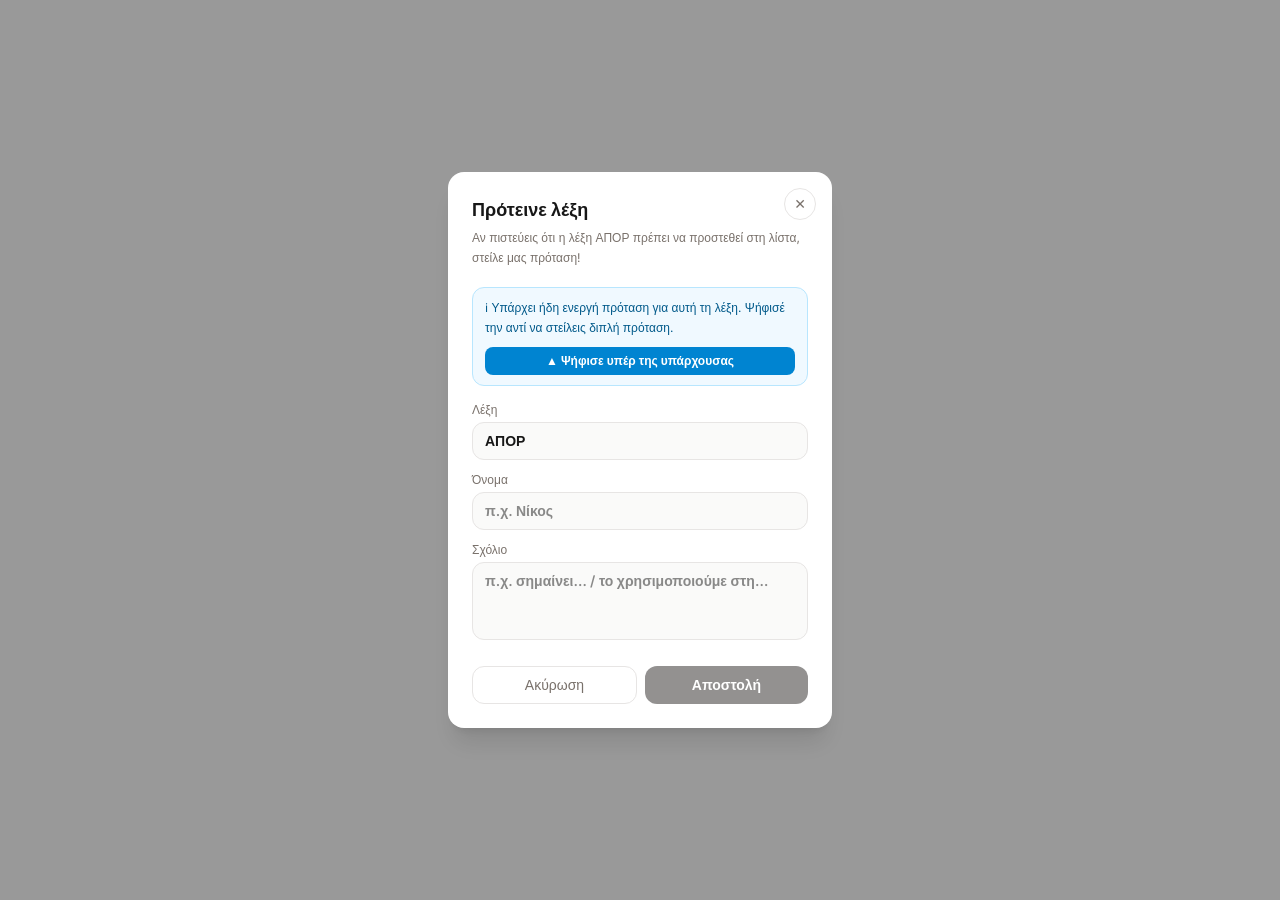
Test: NominationModal — re-proposal warning › upvotes the existing proposal instead of posting a duplicate
This screenshot has width=1280, height=900.
Step 1. Click the button with test id "nomination-pending-upvote" → (640, 361), box [485,347,795,375]
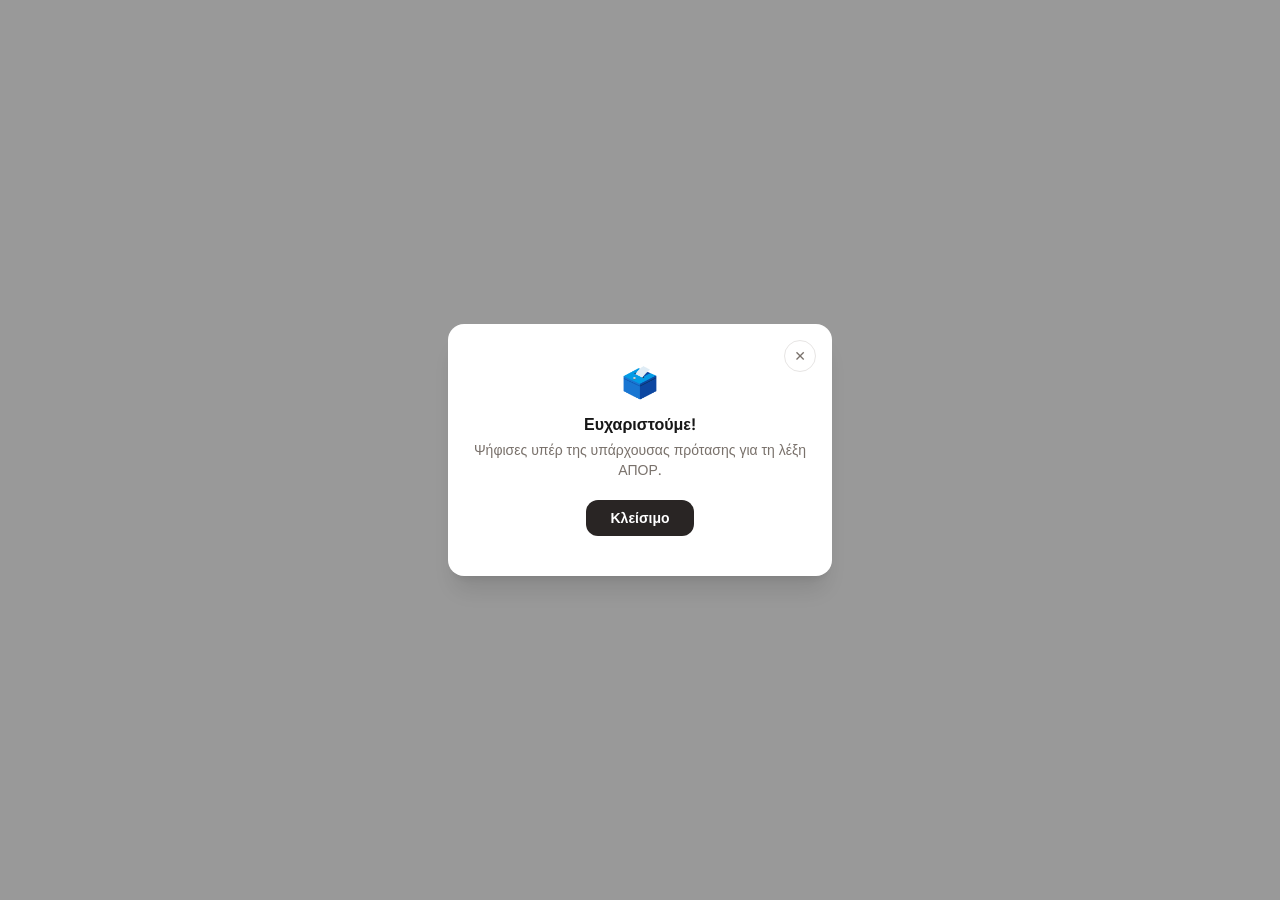
Check: the element with test id "nomination-modal-success" is shown, box [472,348,808,552]
